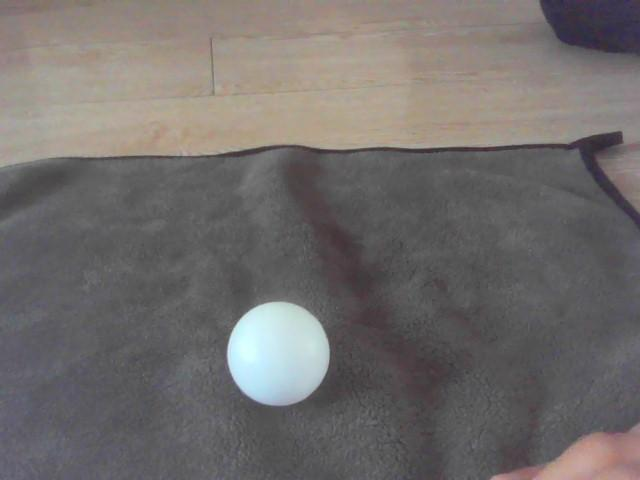ball: (224, 303, 329, 406)
